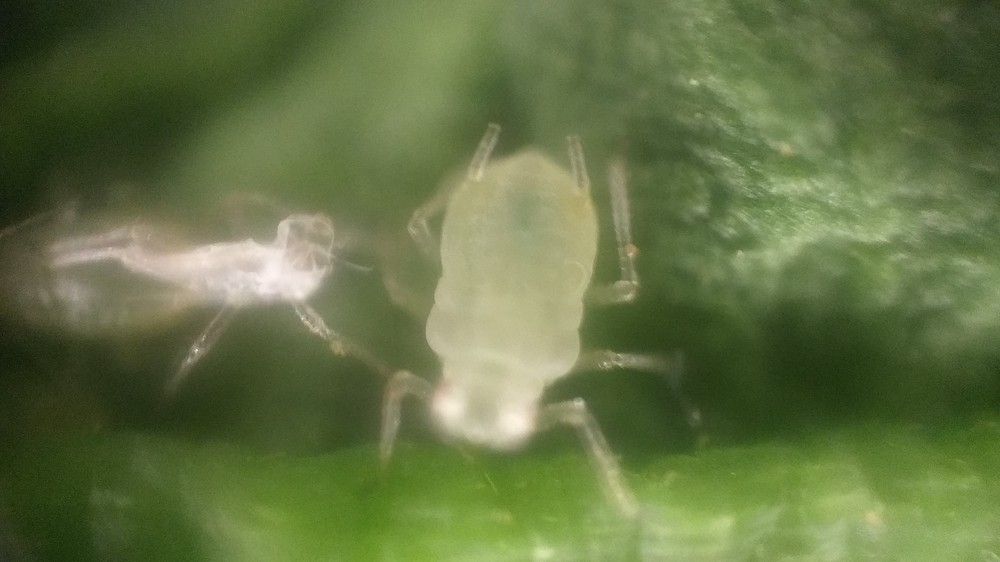Pulgon: (345, 107, 742, 504)
